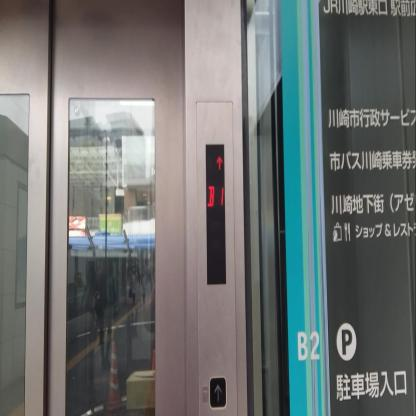led: (205, 143, 226, 284)
up: (209, 376, 226, 409)
